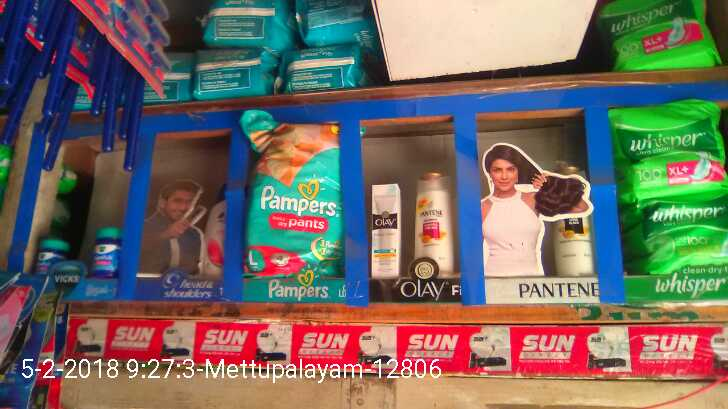vicks: (93, 225, 125, 277), (36, 237, 66, 274)
